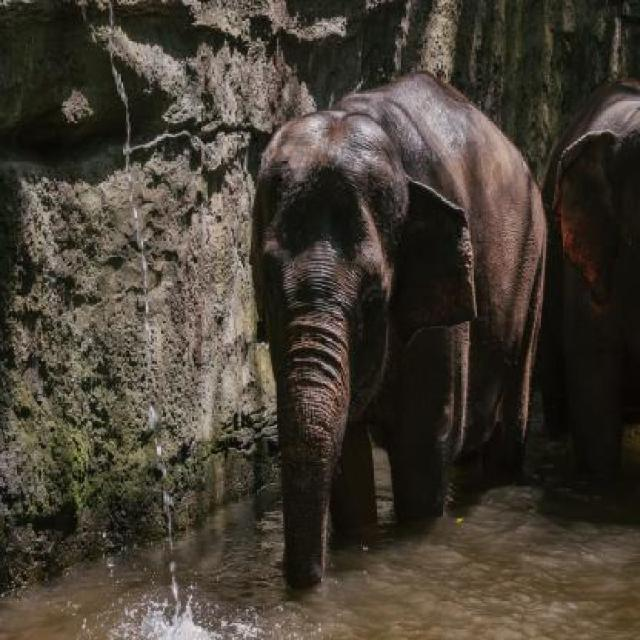Elephant: (243, 73, 542, 602)
